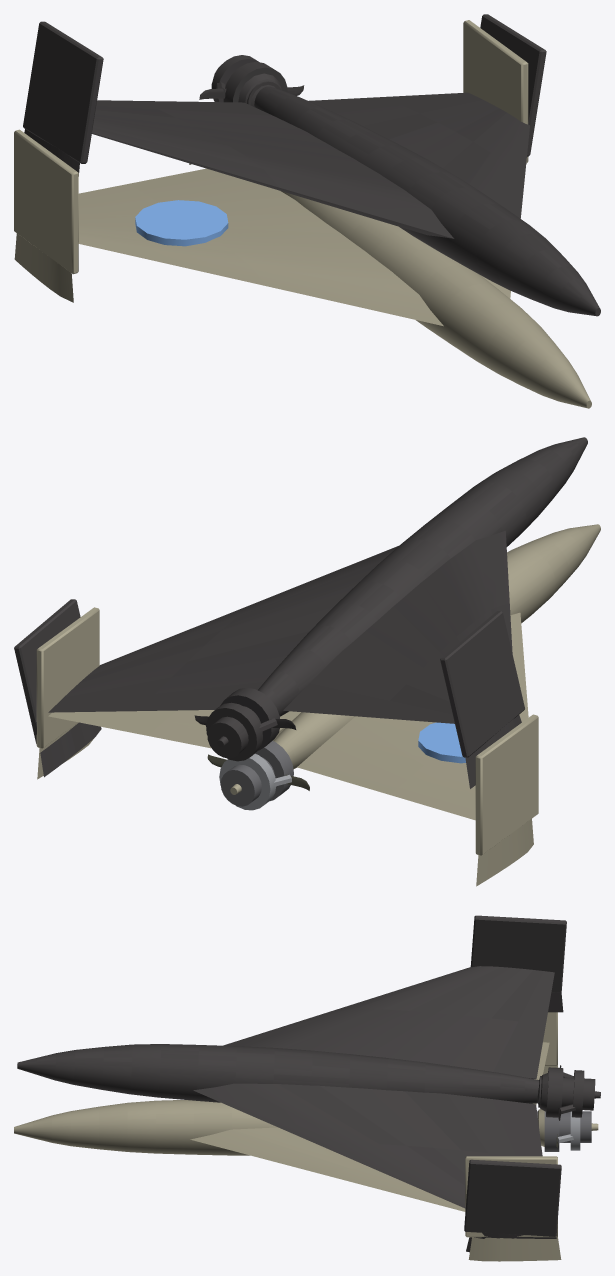
The model's file is shahed__geran_2.glb.
The picture shows the model from 3 angles, top to bottom: view 1: azimuth 30°, elevation 25°; view 2: azimuth 150°, elevation 25°; view 3: azimuth 270°, elevation 25°; orthographic projection. The views are drawn at different scales.
Parts seen in each view (by area): view 1: Wreck, Fuselage_Mesh; view 2: Wreck, Fuselage_Mesh, Propeller_Mesh; view 3: Wreck, Fuselage_Mesh, Propeller_Mesh.
Part boxes in pixels (<box>): Wreck: <box>23,14,600,316</box>; Fuselage_Mesh: <box>14,20,591,408</box>; Wreck: <box>14,437,587,788</box>; Fuselage_Mesh: <box>36,524,600,886</box>; Propeller_Mesh: <box>207,741,309,810</box>; Wreck: <box>17,915,600,1252</box>; Fuselage_Mesh: <box>14,1012,561,1261</box>; Propeller_Mesh: <box>537,1109,598,1151</box>.
Size of what is drawn, in the model's own units: 2.66 by 1.25 by 3.61.
